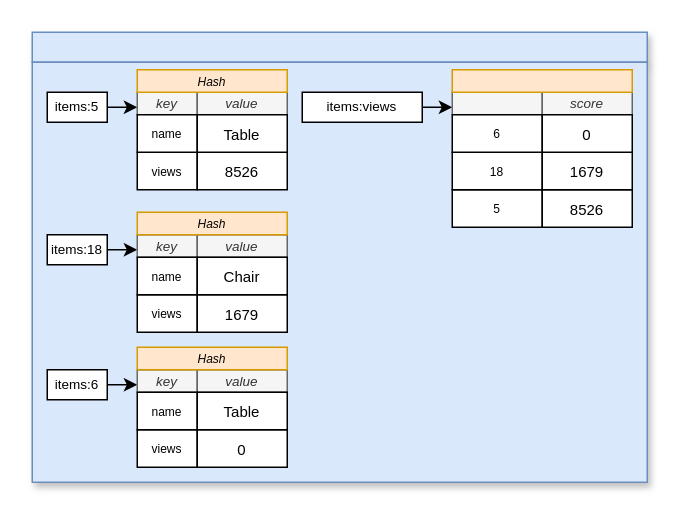
The diagram is 683 pixels wide and 519 high, and some of its shapes have lost their labels. The shapes that lost their labels are listed below. From the top down, each one's centre as x and y in pixels, then its label:
(x=340, y=49): Redis
(x=541, y=80): Sorted Set
(x=496, y=103): member
